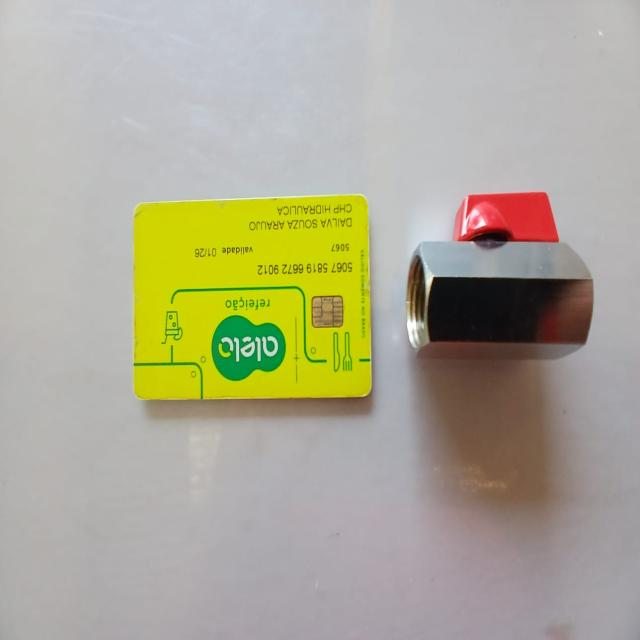cartao: (132, 194, 372, 400)
rosca_interna: (407, 192, 594, 357)
